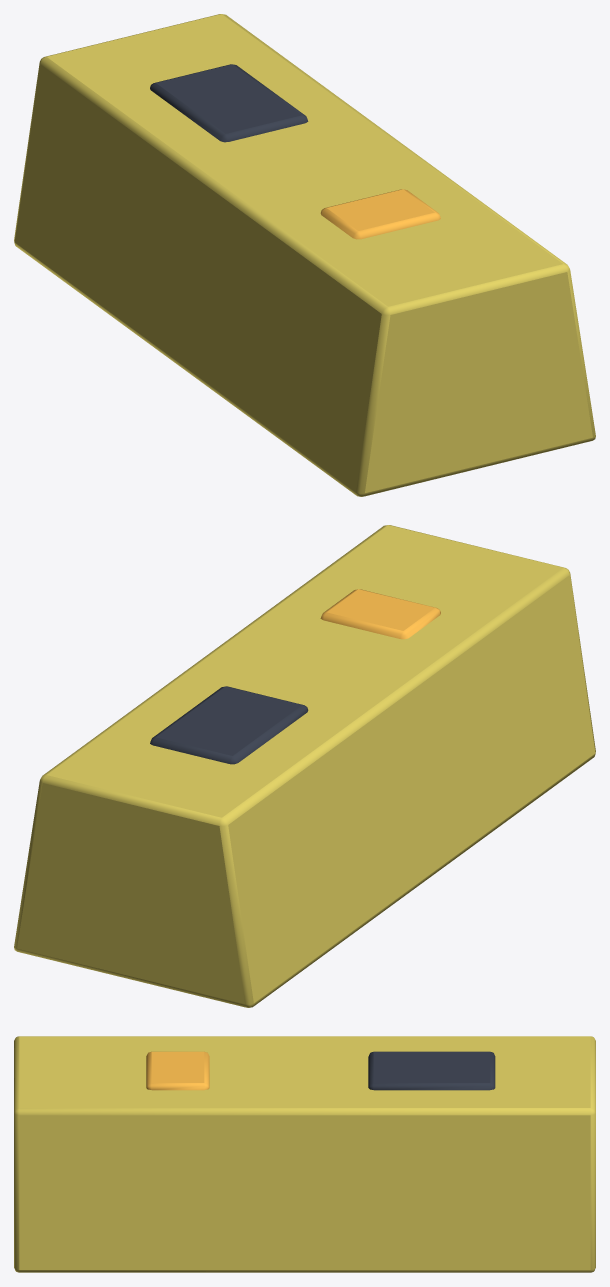
The model's file is ware_schwefelstahl.fbx.
3 renders of one model, top to bottom at view 1: azimuth 30°, elevation 25°; view 2: azimuth 150°, elevation 25°; view 3: azimuth 270°, elevation 25°, orthographic. The views are drawn at different scales.
Visible parts, largest first — view 1: ware_schwefelstahl_Koerper; view 2: ware_schwefelstahl_Koerper; view 3: ware_schwefelstahl_Koerper.
Boxes of the visible parts, bbox=[...] form: ware_schwefelstahl_Koerper: bbox=[14, 14, 595, 496]; ware_schwefelstahl_Koerper: bbox=[14, 525, 595, 1007]; ware_schwefelstahl_Koerper: bbox=[14, 1036, 595, 1272].
Size of the model in its own units: 0.2185 by 0.165 by 0.55.
